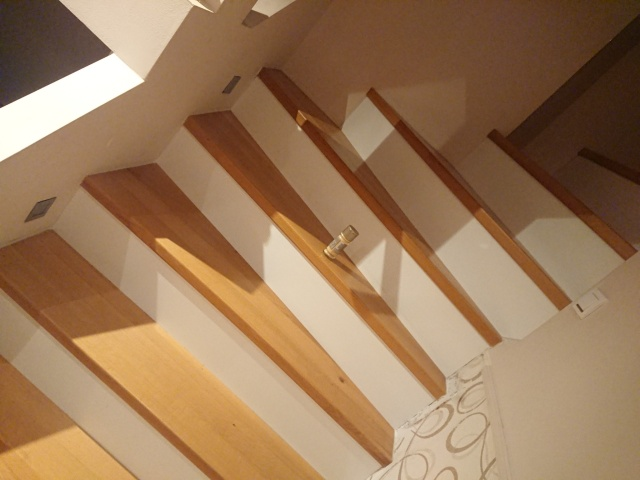Kotanyi Garlic Granules 70g: (322, 223, 360, 261)
